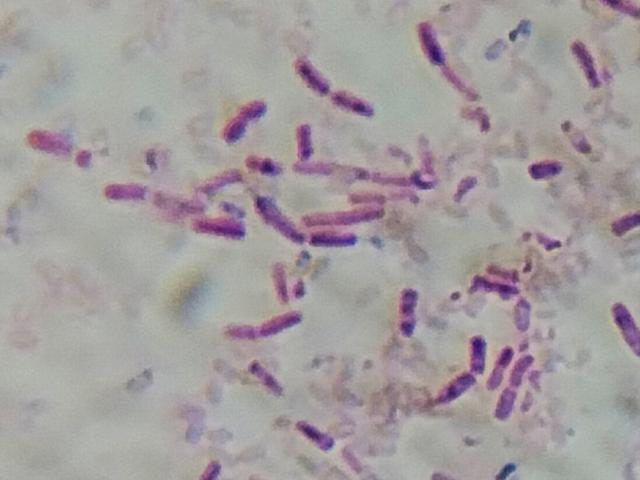E. coli: (32, 128, 97, 171), (569, 31, 608, 98), (256, 195, 302, 243), (608, 297, 640, 358), (233, 316, 304, 341), (225, 99, 267, 141), (416, 21, 451, 70), (194, 212, 248, 243), (305, 202, 384, 223), (296, 417, 341, 453), (246, 357, 282, 399), (459, 99, 497, 136), (397, 288, 424, 340), (295, 55, 329, 94), (337, 88, 375, 121), (434, 369, 474, 400), (197, 166, 236, 196), (109, 177, 149, 206), (527, 155, 565, 185), (308, 228, 357, 251), (476, 272, 513, 302), (455, 172, 482, 207), (614, 208, 640, 242), (274, 258, 293, 303), (470, 332, 489, 376), (247, 154, 280, 179), (296, 119, 317, 158), (198, 454, 229, 480), (512, 350, 532, 390), (496, 384, 517, 422), (495, 452, 517, 480), (492, 340, 505, 385)
